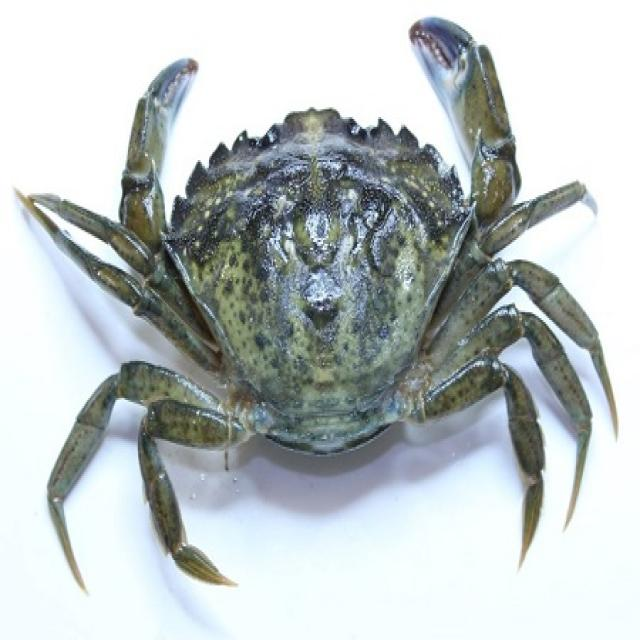green_crab: (18, 18, 616, 587)
